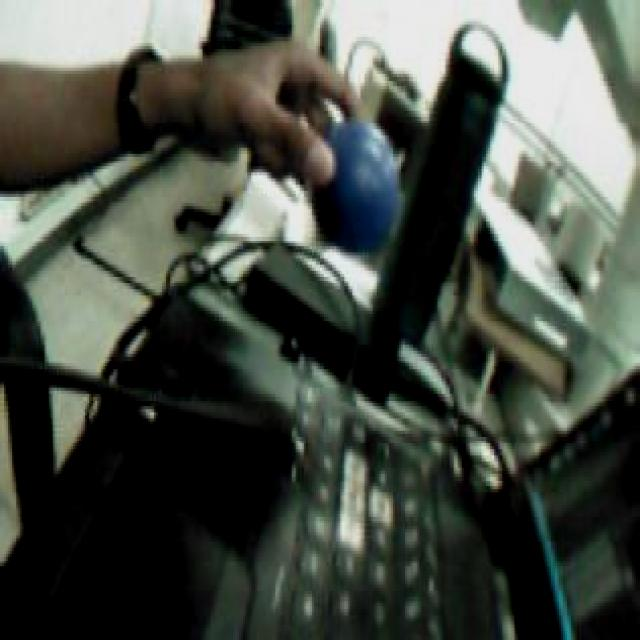BallPurple: (312, 119, 396, 257)
